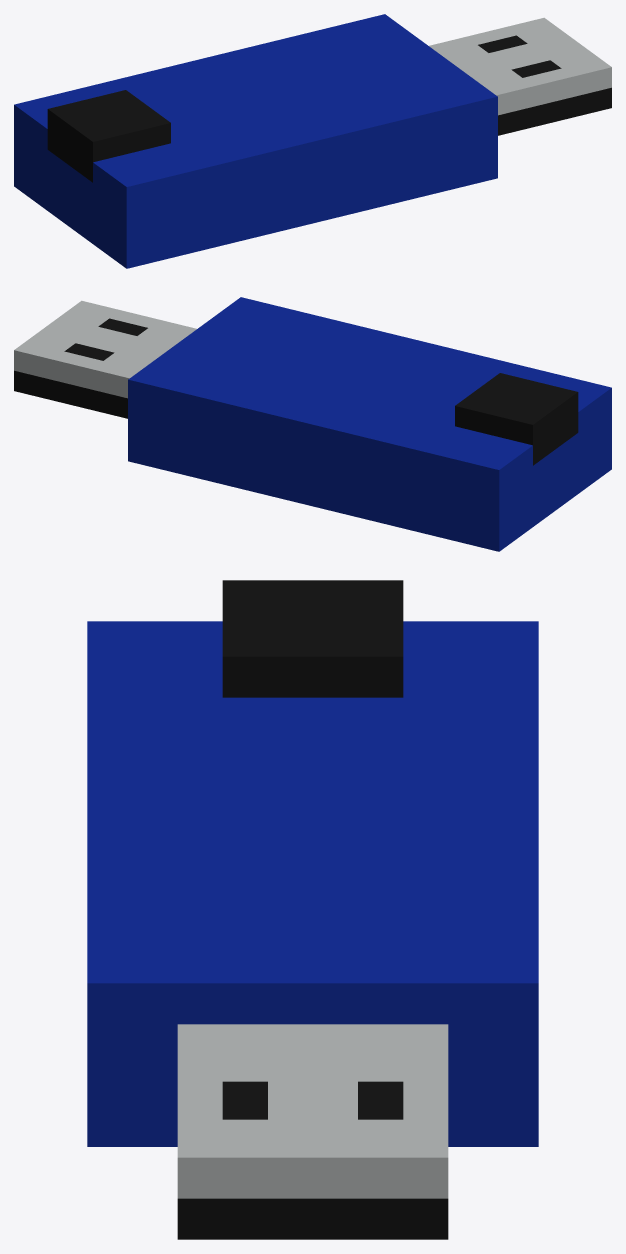
File: usb_drive.glb
The picture shows the model from 3 angles, top to bottom: view 1: azimuth 30°, elevation 25°; view 2: azimuth 150°, elevation 25°; view 3: azimuth 270°, elevation 25°; orthographic projection. The views are drawn at different scales.
Visible parts, largest first — view 1: usb_drive:compound; view 2: usb_drive:compound; view 3: usb_drive:compound.
Boxes of the visible parts, x1=… form: usb_drive:compound: x1=14, y1=14, x2=611, y2=268; usb_drive:compound: x1=14, y1=297, x2=611, y2=551; usb_drive:compound: x1=87, y1=580, x2=538, y2=1239.
Bounding box in the file's own units: 0.052 × 0.01 × 0.02.
